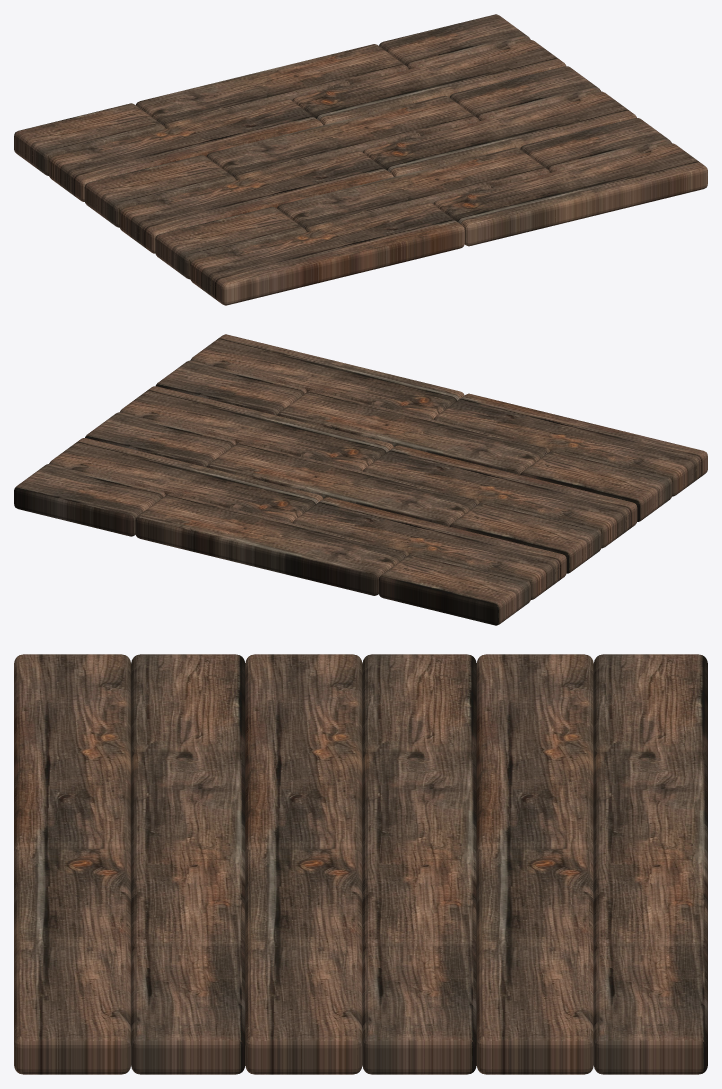
The model's file is planks.fbx.
The picture shows the model from 3 angles, top to bottom: view 1: azimuth 30°, elevation 25°; view 2: azimuth 150°, elevation 25°; view 3: azimuth 270°, elevation 25°; orthographic projection. The views are drawn at different scales.
Visible parts, largest first — view 1: Plane; view 2: Plane; view 3: Plane.
Boxes of the visible parts, x1,y1,x2,y2 form: Plane: (14,14,707,305); Plane: (14,334,707,625); Plane: (14,654,707,1074).
Size of the model in its own units: 200 by 9.01 by 151.
